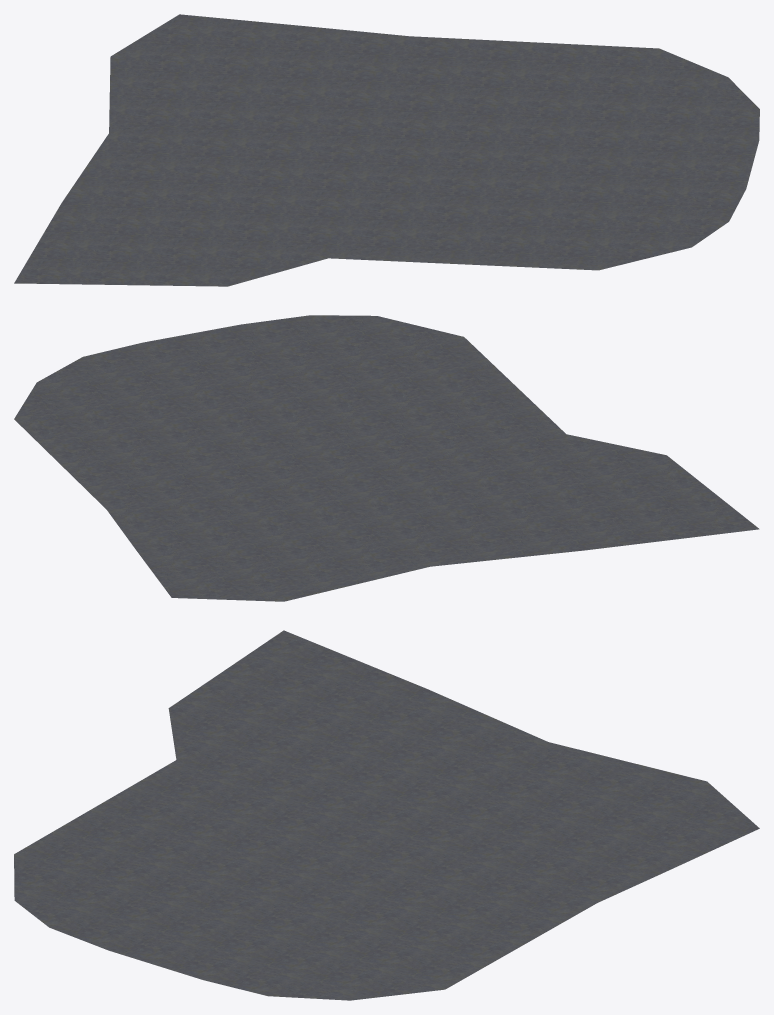
File: Area03_2.FBX
3 renders of one model, top to bottom at view 1: azimuth 30°, elevation 25°; view 2: azimuth 150°, elevation 25°; view 3: azimuth 270°, elevation 25°, orthographic. The views are drawn at different scales.
Visible parts, largest first — view 1: Area03_2; view 2: Area03_2; view 3: Area03_2.
Part boxes in pixels (x1,y1,x2,y2): Area03_2: [14, 14, 759, 286]; Area03_2: [14, 315, 759, 601]; Area03_2: [14, 630, 759, 1000].
Bounding box in the file's own units: 9174 × 0.000567 × 7811.
